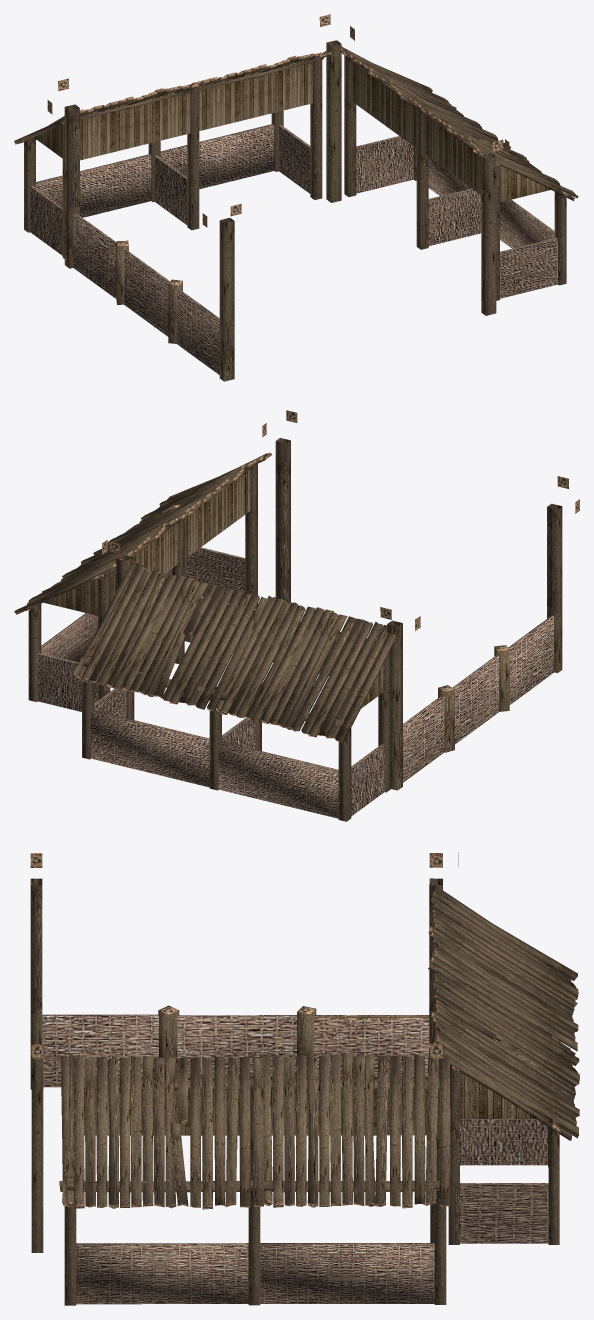
The model's file is celt_market1.dae.
3 renders of one model, top to bottom at view 1: azimuth 30°, elevation 25°; view 2: azimuth 150°, elevation 25°; view 3: azimuth 270°, elevation 25°, orthographic. The views are drawn at different scales.
Visible parts, largest first — view 1: celt_marketfix; view 2: celt_marketfix; view 3: celt_marketfix.
Part boxes in pixels (x1,y1,x2,y2): celt_marketfix: (14, 14, 579, 381); celt_marketfix: (14, 410, 579, 821); celt_marketfix: (30, 852, 579, 1305).
Bounding box in the file's own units: 22.81 × 22.37 × 10.19.
